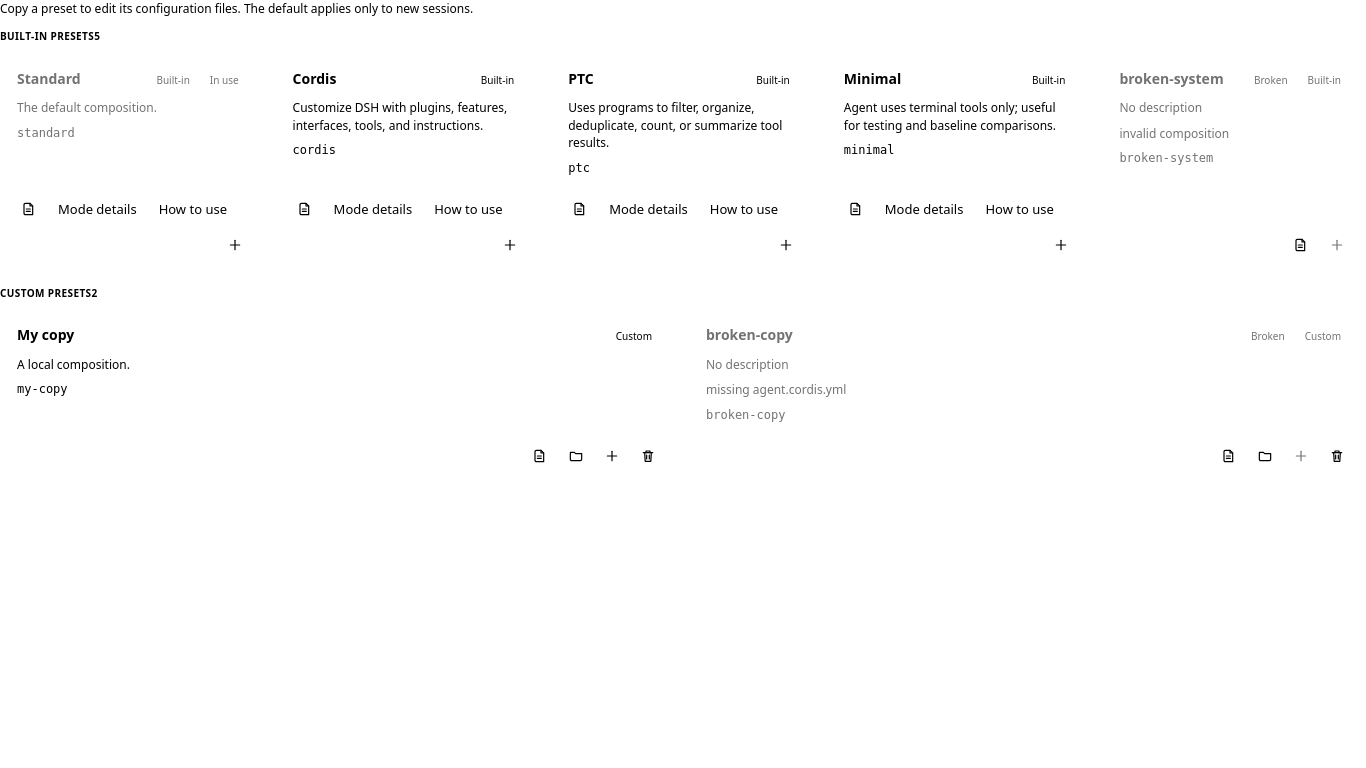
Test case: PresetManager composition viewer › offers the read-only viewer for custom and broken declarations
The image size is (1366, 768).
Expected: the text "Built-in presets" is shown, 0,29 -> 94,43
Click the button named "View composition: My copy".
click(540, 456)  # box 524,440 -> 556,472
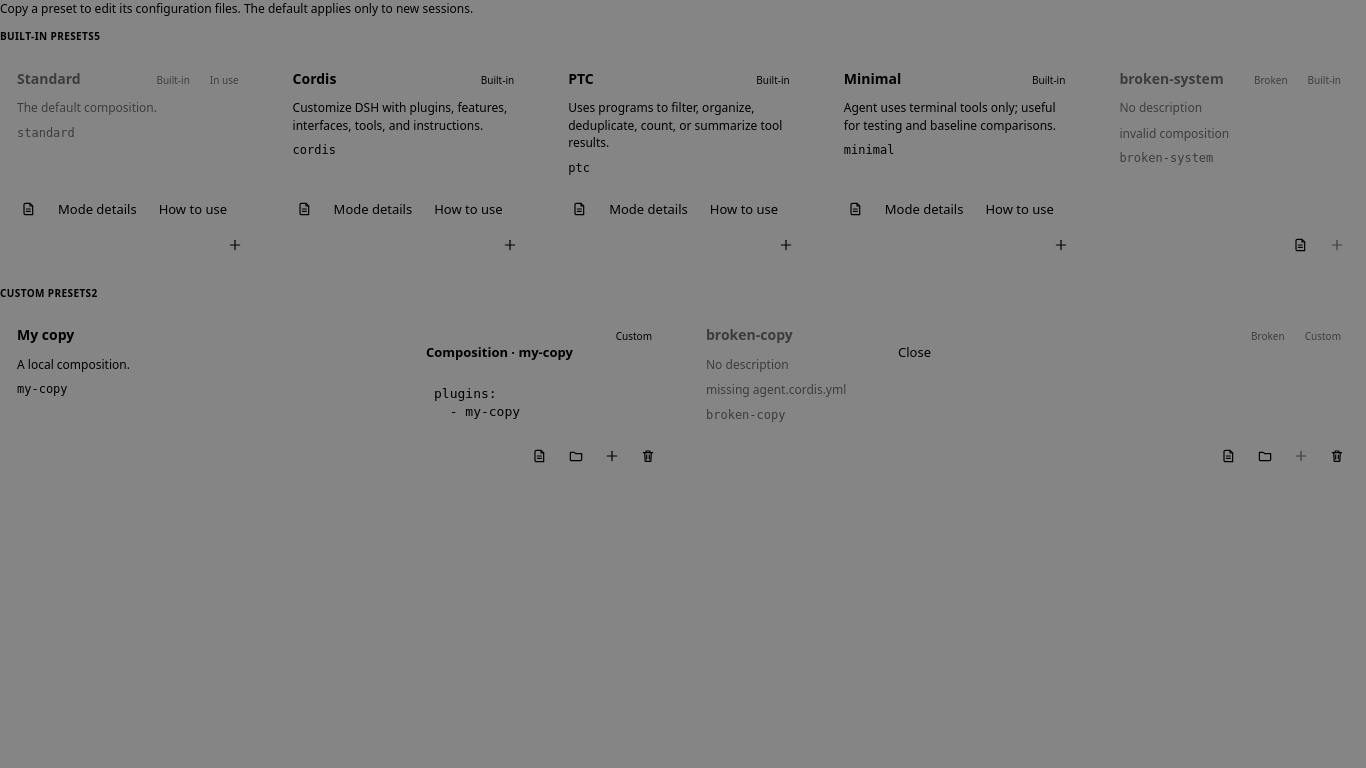
Expected: the dialog named "Preset composition" is shown, 413,325 -> 953,443
Click the button "Close".
click(914, 352)  # box 889,338 -> 940,366
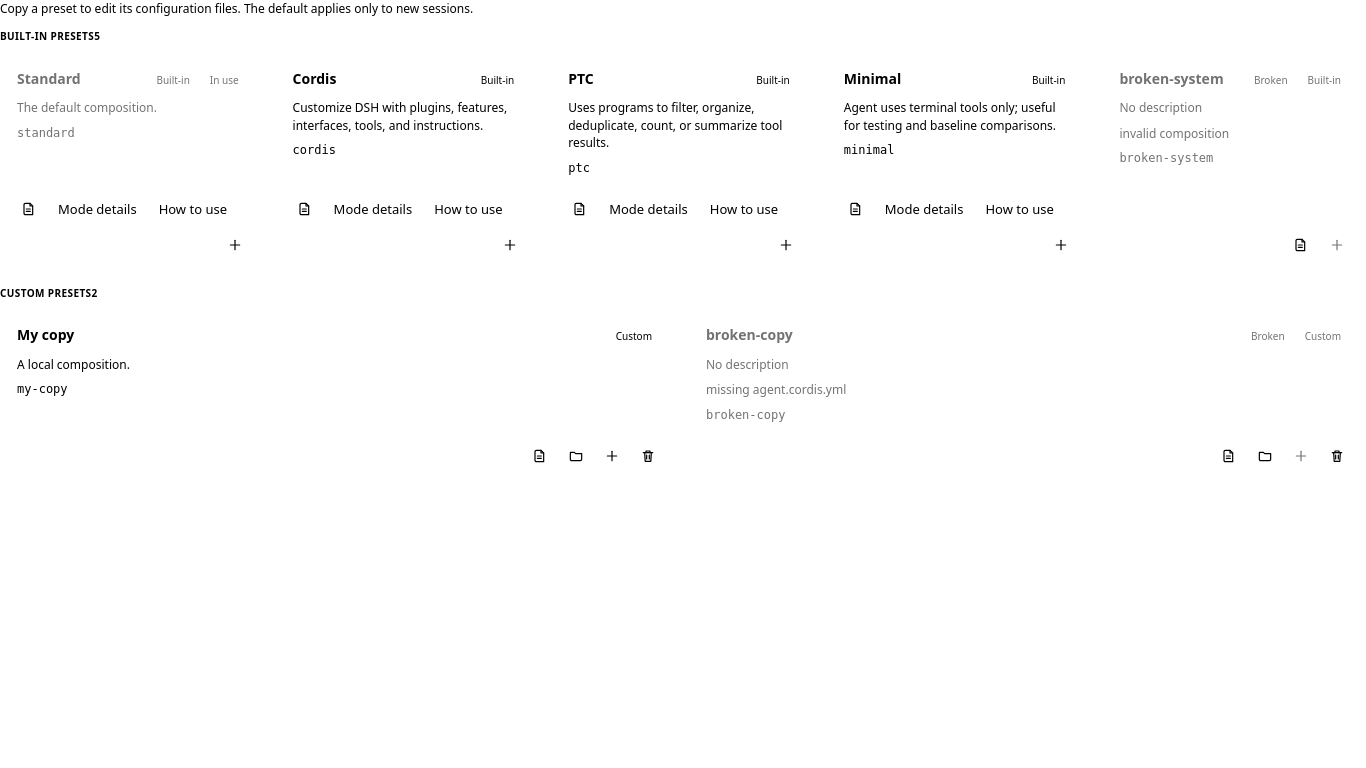
Click the button named "View composition: broken-system".
click(1301, 245)  # box 1285,229 -> 1317,261
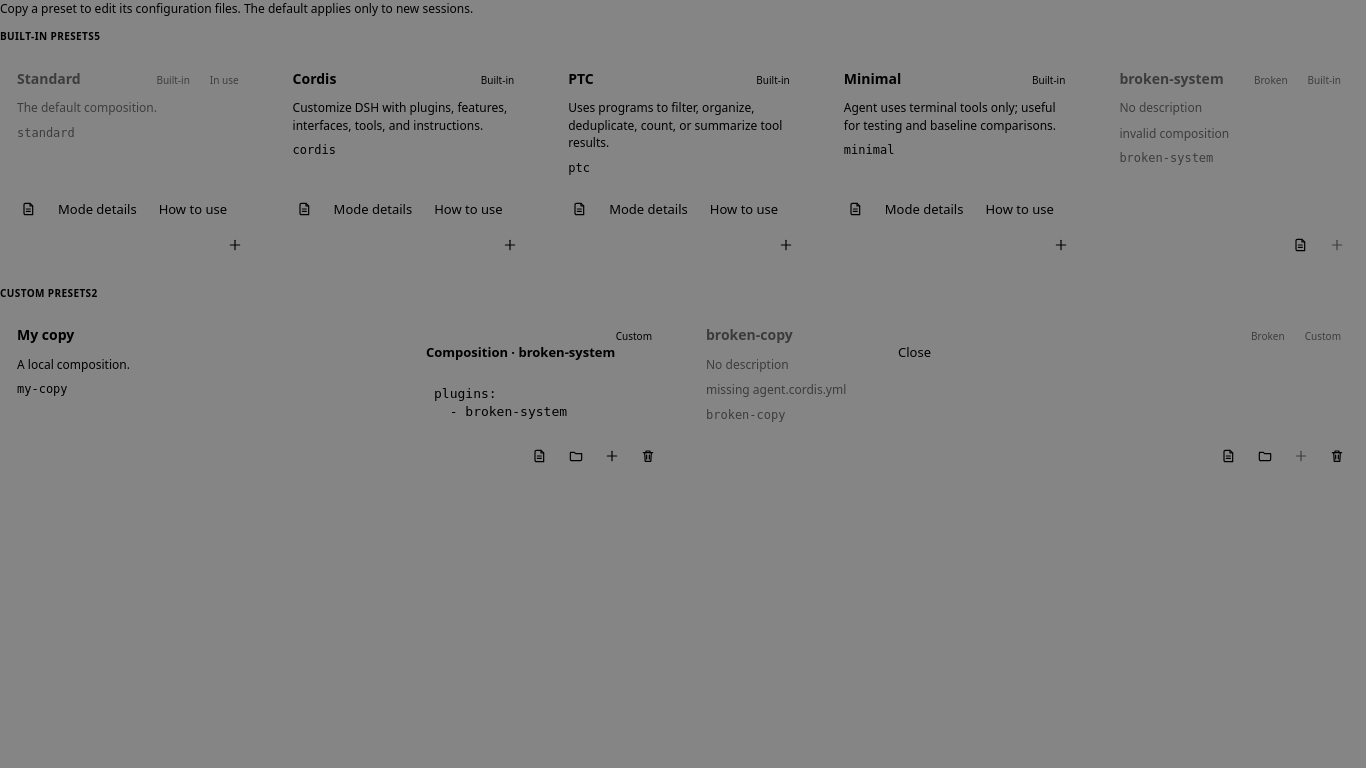
Expected: the dialog named "Preset composition" is shown, 413,325 -> 953,443
